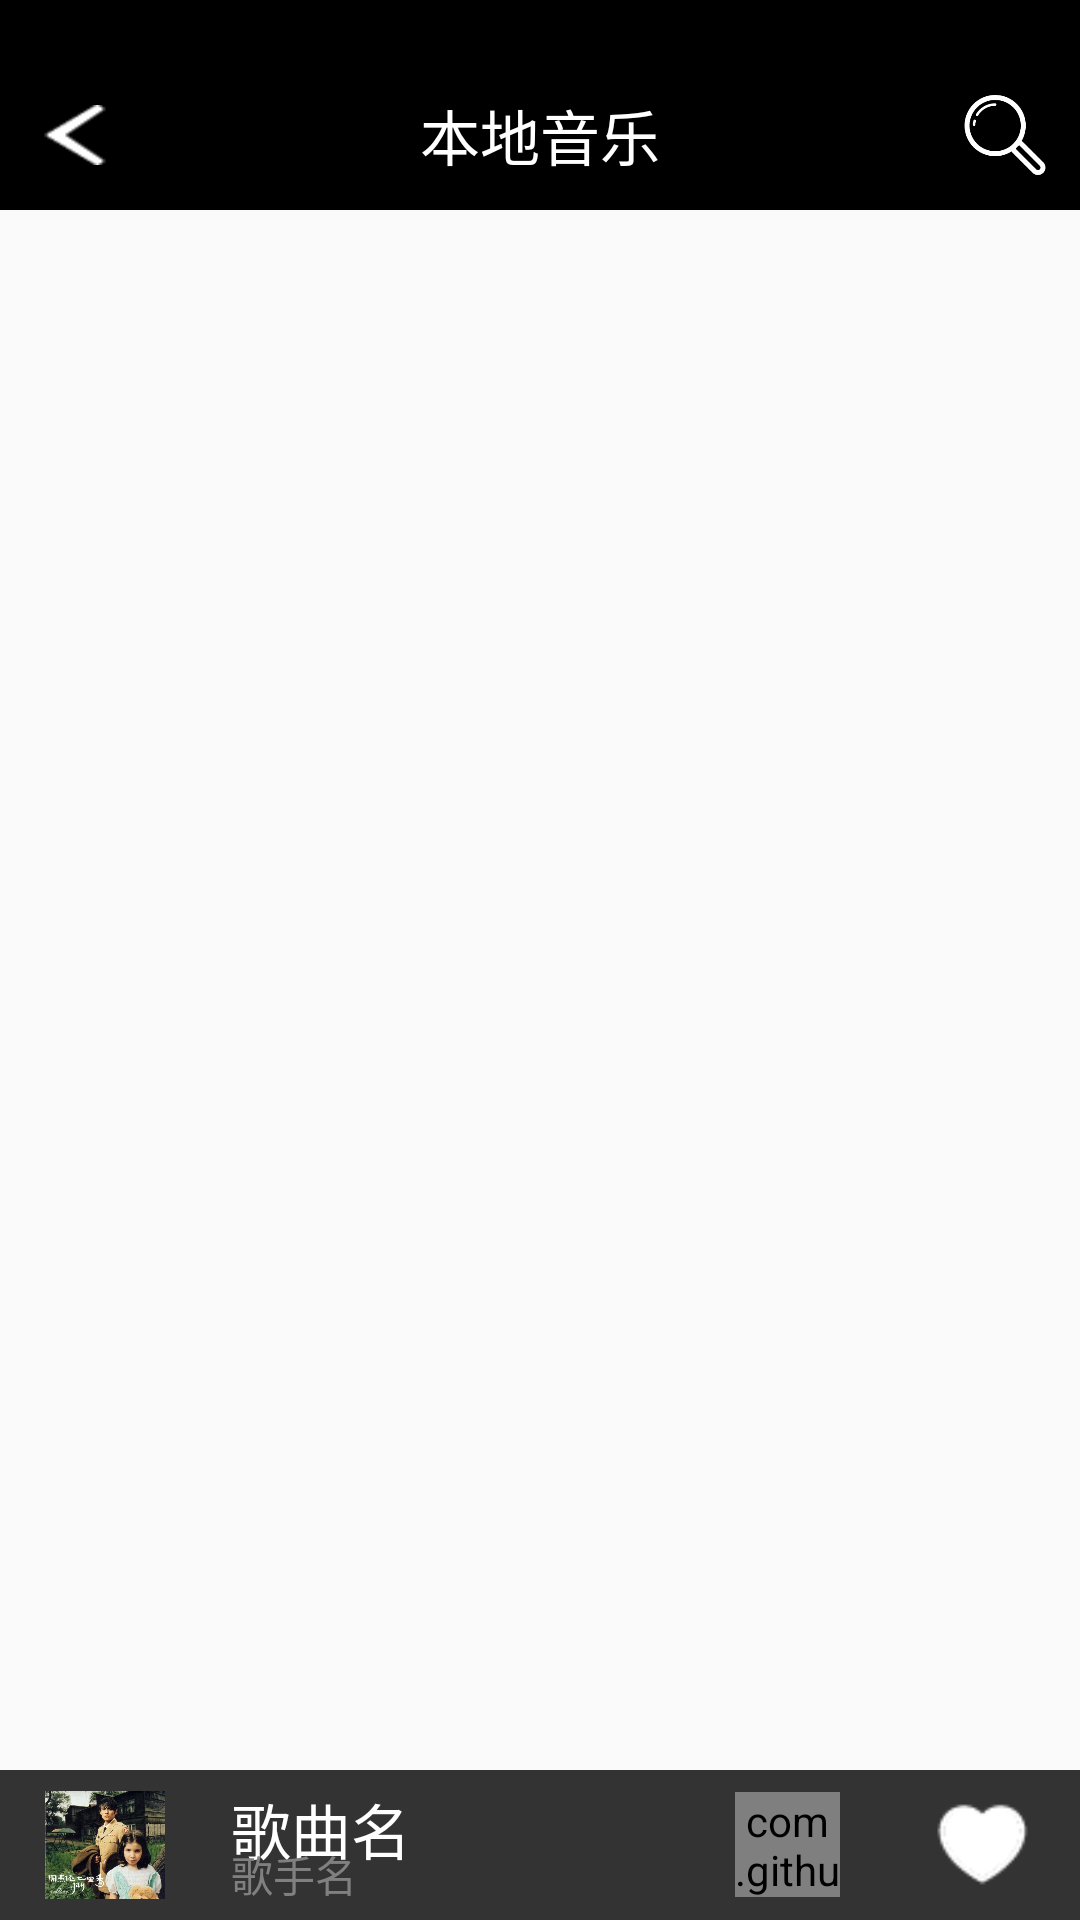

Where icons sit on this 1080x1920 app screen, as box(x1, y1, x2, y2):
play favorite: box(937, 1804, 1027, 1884)
player exit: box(44, 105, 106, 165)
search: box(964, 95, 1046, 175)
